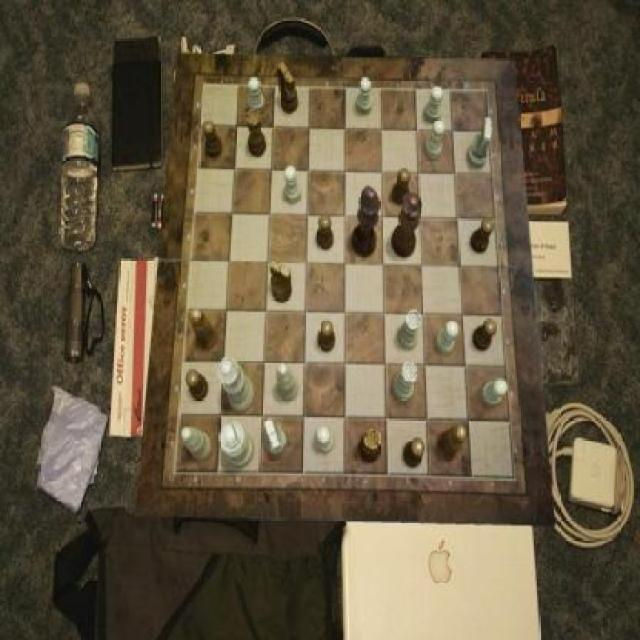bishop: (190, 308, 218, 350), (439, 424, 466, 460)
black-bishop: (352, 186, 380, 259)
black-king: (278, 63, 300, 114), (269, 258, 292, 302)
black-knight: (470, 219, 494, 253), (472, 320, 496, 352), (203, 120, 223, 158), (186, 369, 209, 400), (403, 437, 425, 468), (392, 170, 410, 206), (317, 214, 334, 250), (319, 318, 336, 352)
black-pawn: (391, 192, 422, 258)
black-queen: (246, 111, 266, 158), (358, 429, 382, 464)
black-rook: (182, 428, 212, 462), (275, 363, 298, 402)
white-bishop: (218, 422, 254, 469)
white-king: (468, 117, 492, 169), (264, 419, 288, 456)
white-knight: (437, 320, 460, 355), (426, 120, 446, 160), (424, 86, 444, 124), (482, 379, 508, 406), (286, 166, 303, 204), (248, 77, 264, 115), (356, 77, 372, 115), (315, 426, 333, 454)
white-pawn: (217, 356, 255, 412)
white-queen: (398, 309, 422, 351), (394, 363, 418, 403)
